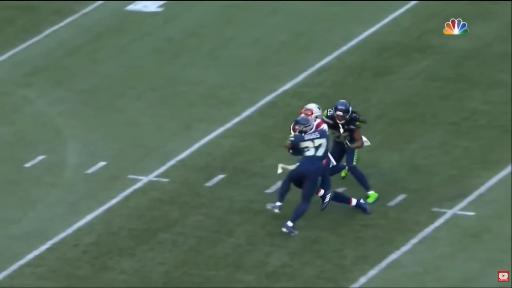Helmet: (334, 100, 351, 123), (294, 116, 314, 134), (301, 104, 322, 119)
Jersey: (290, 130, 328, 168), (323, 109, 365, 143), (314, 120, 328, 130)
Player: (267, 117, 370, 234), (268, 116, 328, 234), (323, 100, 378, 203), (317, 153, 369, 213), (300, 104, 328, 131), (300, 104, 327, 130)
